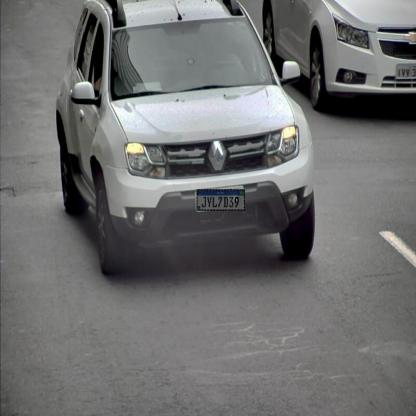PlacaM: (196, 189, 245, 211)
